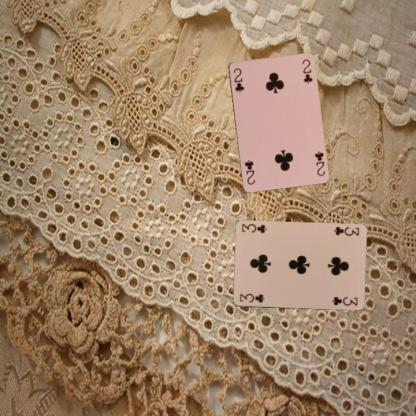2c: (312, 148, 326, 177), (231, 65, 245, 93)
3c: (331, 224, 360, 238), (237, 291, 265, 304)
